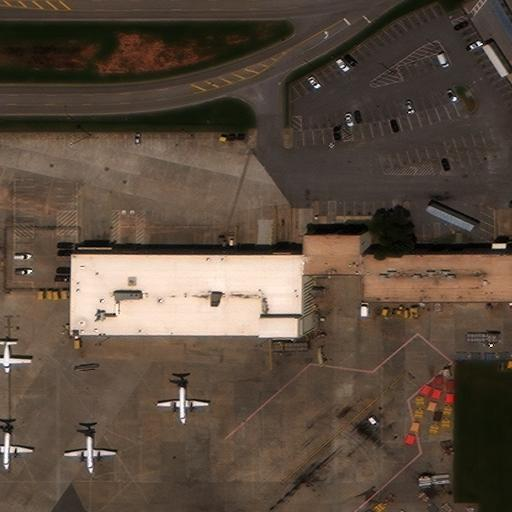Medium Civil Transport: (63, 422, 116, 476), (157, 372, 209, 425), (0, 418, 33, 472), (0, 338, 32, 374)
